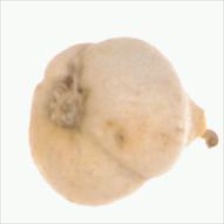L3: (183, 96, 218, 151)
L4: (28, 37, 219, 207)
